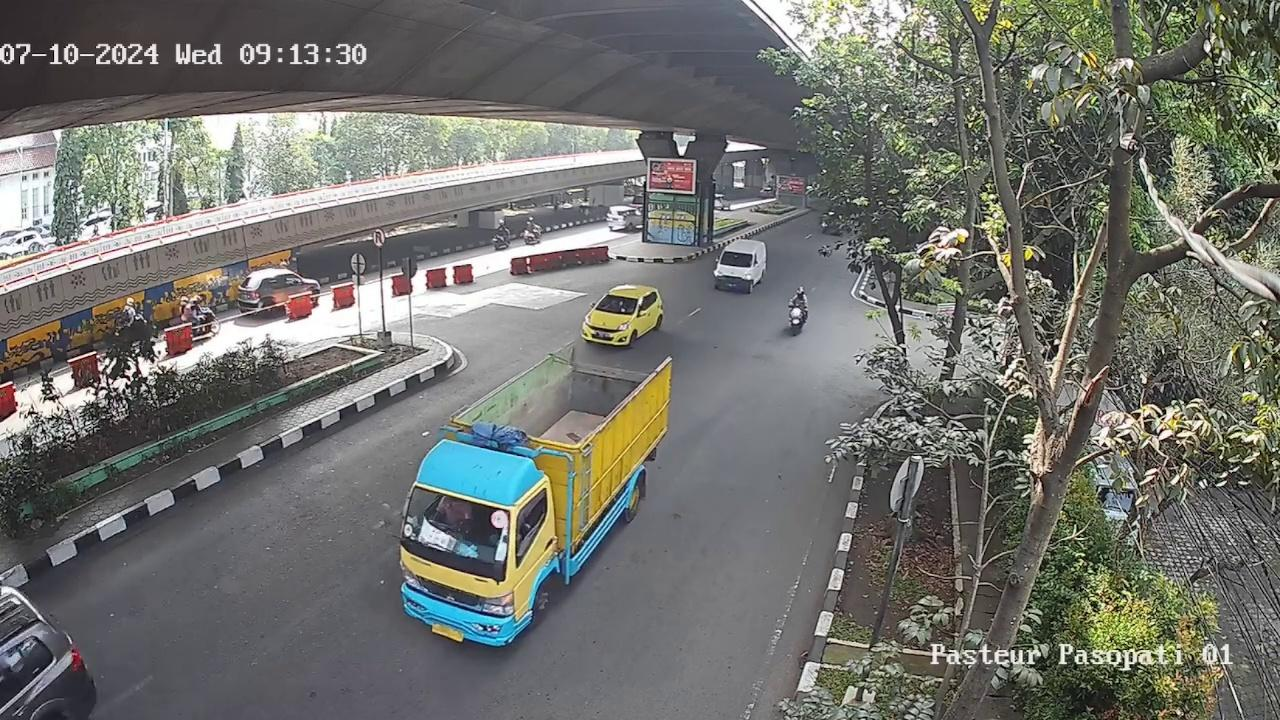tidak-pakai: (434, 496, 475, 536)
windshield: (400, 487, 512, 562), (595, 293, 640, 316), (720, 251, 754, 269)
